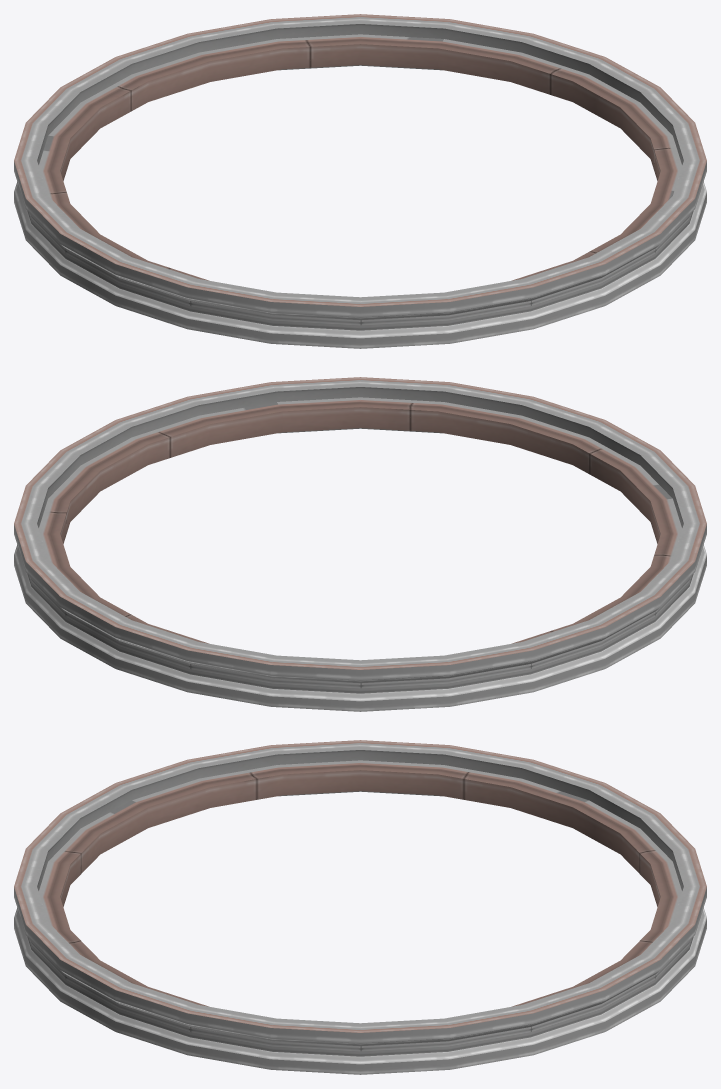
Rendered from Castor_Decoupler_1_Q.obj.
3 renders of one model, top to bottom at view 1: azimuth 30°, elevation 25°; view 2: azimuth 150°, elevation 25°; view 3: azimuth 270°, elevation 25°, orthographic.
Visible parts, largest first — view 1: Castor_Decoupler_1_Q; view 2: Castor_Decoupler_1_Q; view 3: Castor_Decoupler_1_Q.
Part boxes in pixels (box(x1,y1,x2,y2)): Castor_Decoupler_1_Q: box(14, 14, 706, 348); Castor_Decoupler_1_Q: box(14, 377, 706, 711); Castor_Decoupler_1_Q: box(14, 740, 706, 1074).
Size of the model in its own units: 1.88 by 0.125 by 1.88.
